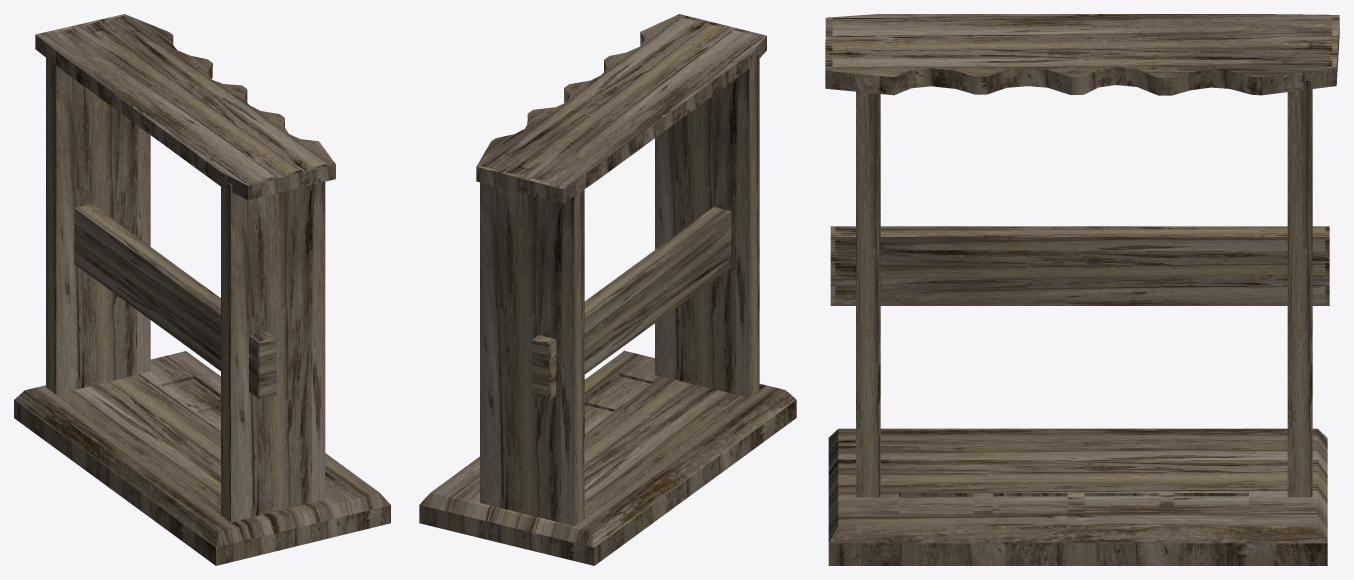
Rendered from weaponrack2.FBX.
The picture shows the model from 3 angles, left to right: view 1: azimuth 30°, elevation 25°; view 2: azimuth 150°, elevation 25°; view 3: azimuth 270°, elevation 25°; orthographic projection. The views are drawn at different scales.
Parts seen in each view (by area): view 1: Box001, Box006, Box005, roof, Box004; view 2: Box005, Box001, Box006, roof, Box004; view 3: Box001, roof, Box004, Box005, Box006.
Part boxes in pixels (x1,y1,x2,y2): Box001: (14, 351, 390, 565); Box006: (221, 182, 325, 522); Box005: (46, 58, 150, 394); roof: (35, 14, 335, 200); Box004: (74, 204, 276, 399); Box005: (480, 182, 584, 525); Box001: (419, 350, 796, 565); Box006: (655, 53, 759, 397); roof: (476, 14, 766, 203); Box004: (532, 207, 731, 400); Box001: (828, 428, 1327, 565); roof: (825, 14, 1339, 95); Box004: (830, 226, 1329, 305); Box005: (1287, 80, 1312, 497); Box006: (856, 91, 880, 497).
Bounding box in the file's own units: 5 × 10.2 × 10.31.
1 material, 1 textured.
